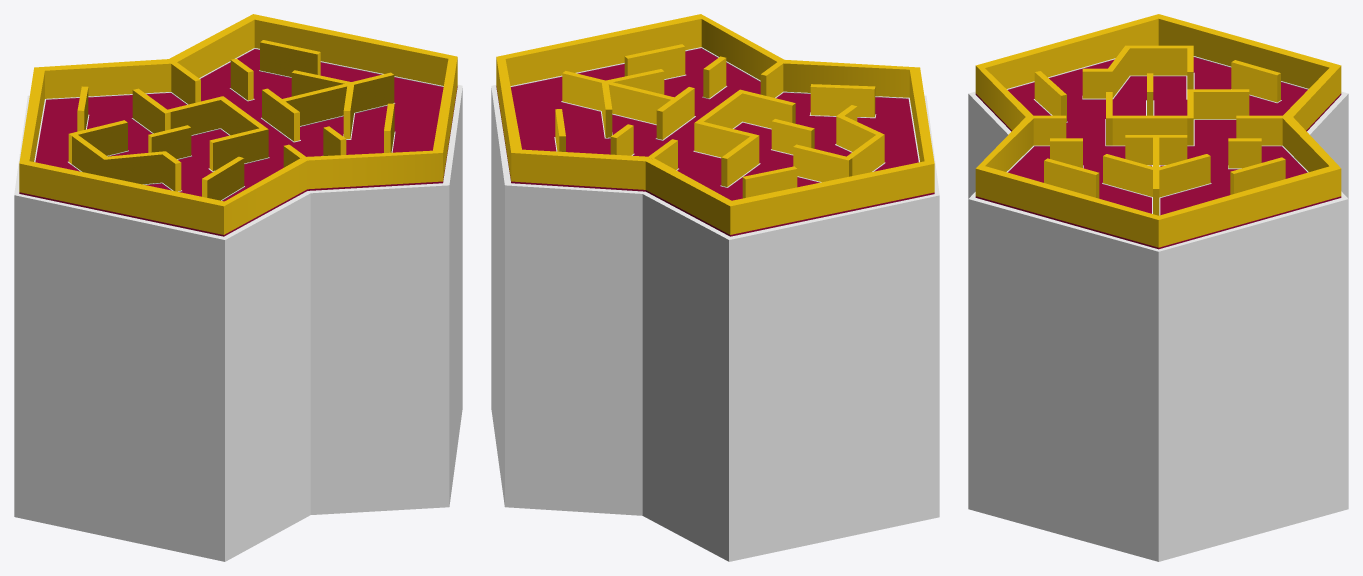
Rendered from Level_24.FBX.
The picture shows the model from 3 angles, left to right: view 1: azimuth 30°, elevation 25°; view 2: azimuth 150°, elevation 25°; view 3: azimuth 270°, elevation 25°; orthographic projection. The views are drawn at different scales.
Parts seen in each view (by area): view 1: Level_23; view 2: Level_23; view 3: Level_23.
Part boxes in pixels (bbox=[...]): Level_23: bbox=[14, 14, 462, 561]; Level_23: bbox=[491, 14, 939, 561]; Level_23: bbox=[968, 14, 1348, 561].
Size of the model in its own units: 254 by 191 by 194.
